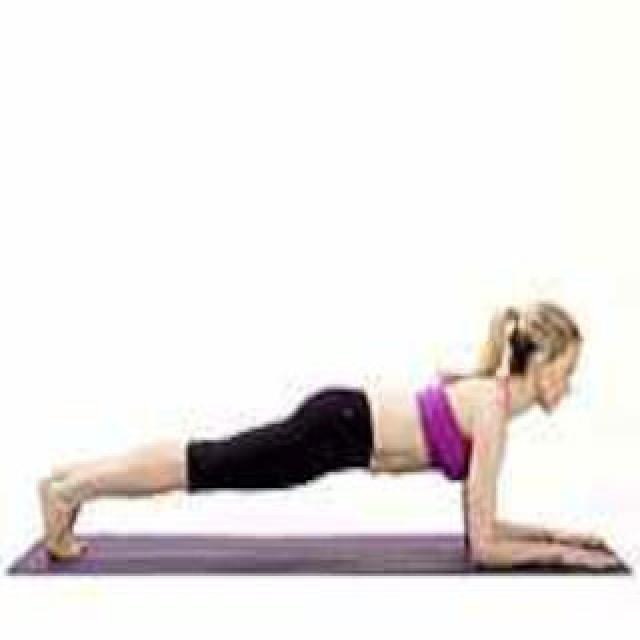yoga-pose plank: (38, 296, 623, 576)
